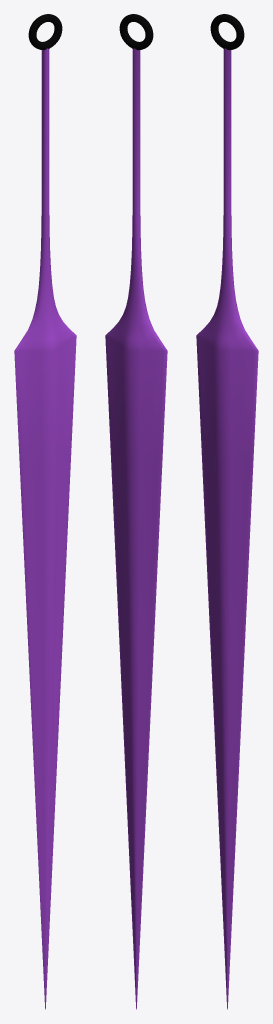
Rendered from Needle_Export.fbx.
The picture shows the model from 3 angles, left to right: view 1: azimuth 30°, elevation 25°; view 2: azimuth 150°, elevation 25°; view 3: azimuth 330°, elevation 25°; orthographic projection.
Parts seen in each view (by area): view 1: Needle; view 2: Needle; view 3: Needle.
Boxes of the visible parts, x1,y1,x2,y2 form: Needle: (14, 14, 76, 1009); Needle: (105, 14, 167, 1009); Needle: (196, 14, 258, 1009).
Bounding box in the file's own units: 0.1446 × 2.21 × 0.0574.
